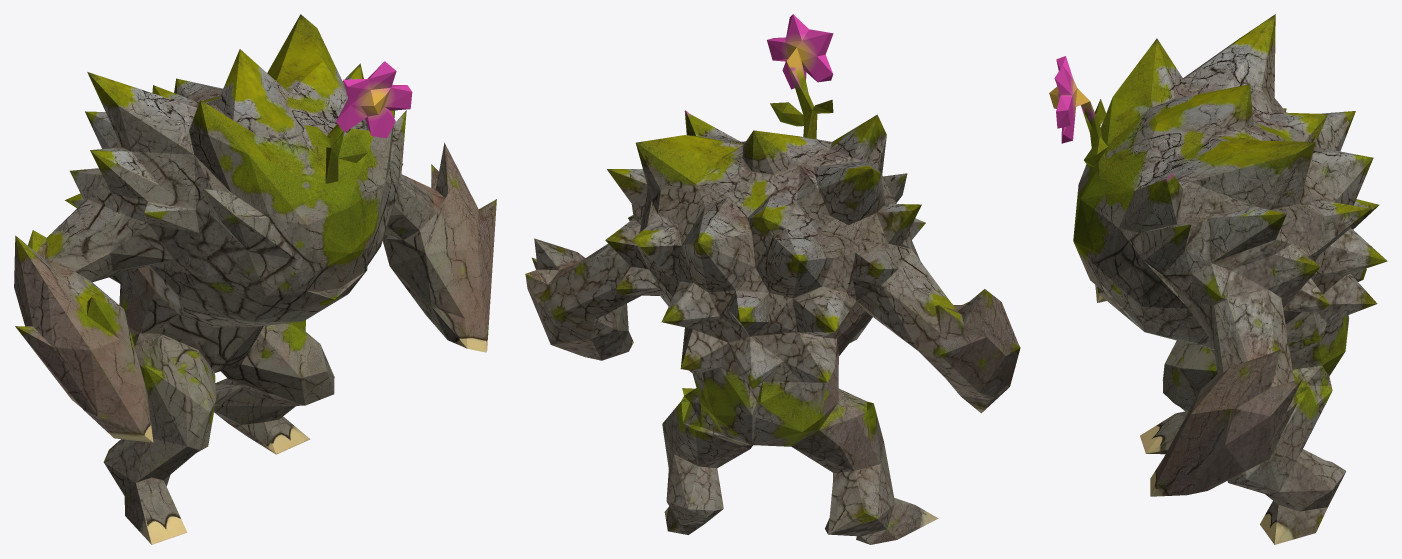
File: earth-boss.glb
3 renders of one model, left to right at view 1: azimuth 30°, elevation 25°; view 2: azimuth 150°, elevation 25°; view 3: azimuth 270°, elevation 25°, orthographic. The views are drawn at different scales.
Parts seen in each view (by area): view 1: Mesh_0; view 2: Mesh_0; view 3: Mesh_0.
Part boxes in pixels (left/top/right/bottom): Mesh_0: left=14, top=14, right=496, bottom=544; Mesh_0: left=525, top=14, right=1020, bottom=544; Mesh_0: left=1049, top=14, right=1387, bottom=544.
Size of the model in its own units: 2 by 1.77 by 1.17.
1 material, 1 textured.
